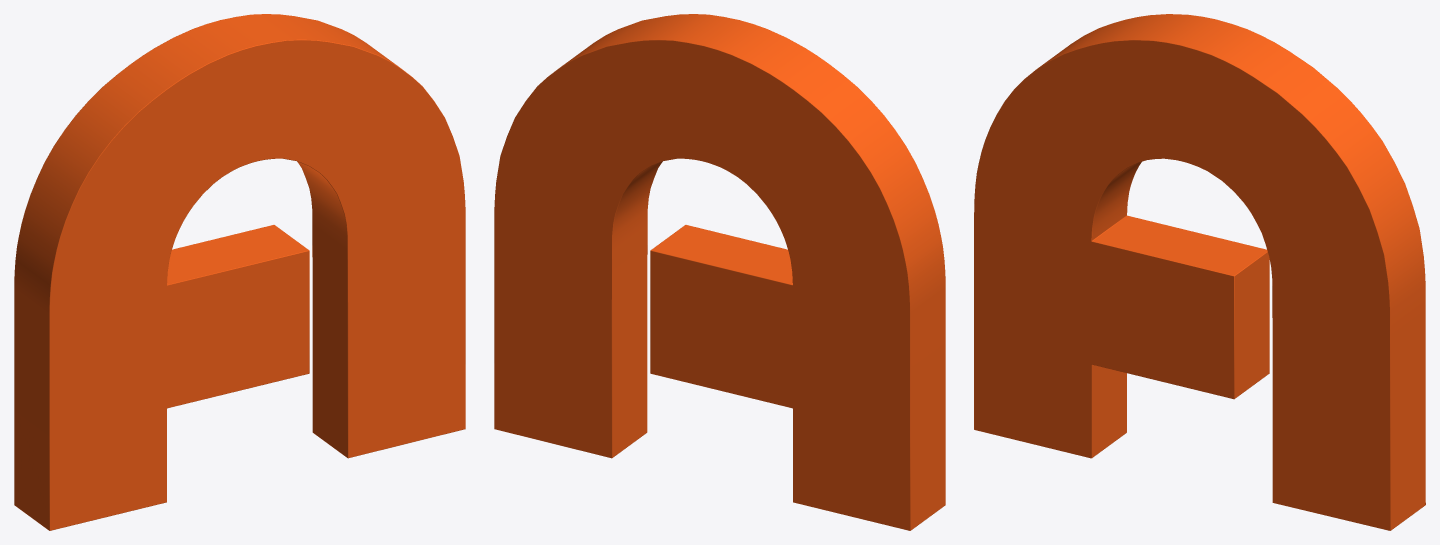
File: A ola.fbx
3 renders of one model, left to right at view 1: azimuth 30°, elevation 25°; view 2: azimuth 150°, elevation 25°; view 3: azimuth 330°, elevation 25°, orthographic.
Parts seen in each view (by area): view 1: A; view 2: A; view 3: A.
Part boxes in pixels (x1,y1,x2,y2): A: (14,14,465,530); A: (494,14,945,530); A: (974,14,1425,530).
Bounding box in the file's own units: 167 × 167 × 24.63.
